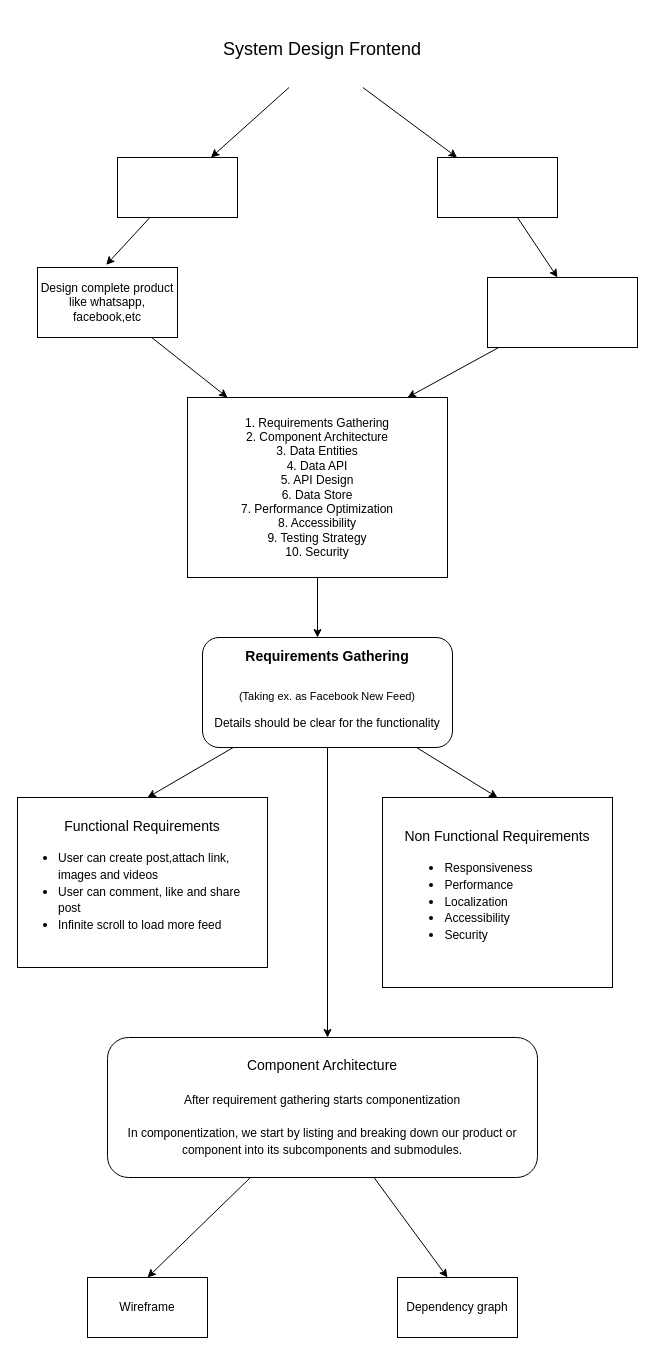
The diagram is 655 pixels wide and 1355 high, and some of its shapes have lost their labels. The shapes that lost their labels are listed below. From the top down, each one's centre as x and y in pixels, then its label:
At pixel 177 187: "HLD(High level design)".
At pixel 497 187: "LLD(Low level design)".
At pixel 562 312: "Design a component like Netflix search bar, autocomplete feature, etc".
